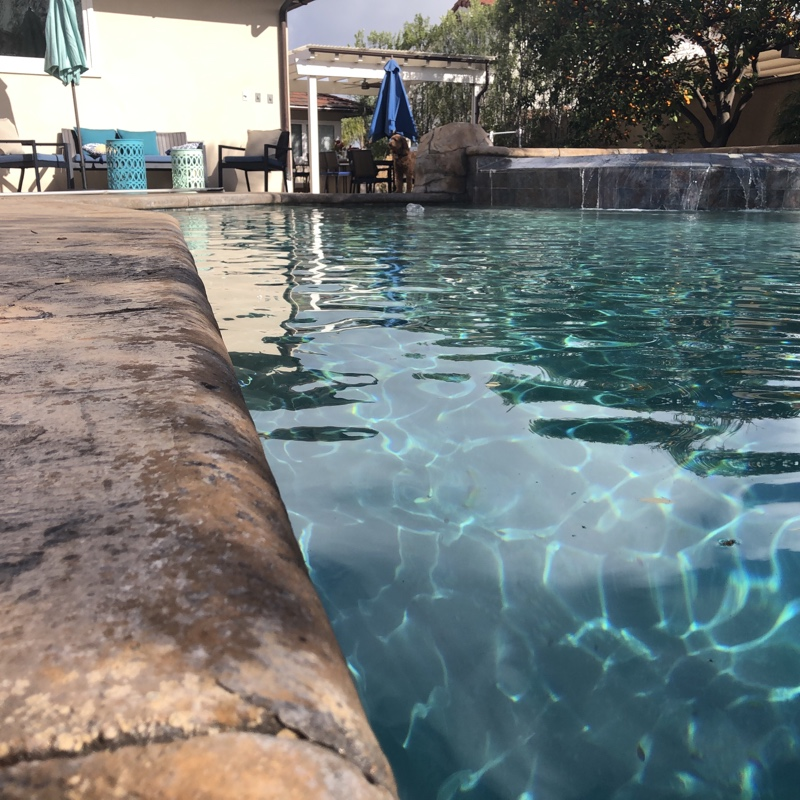Plastic Bottle: (401, 199, 426, 221)
